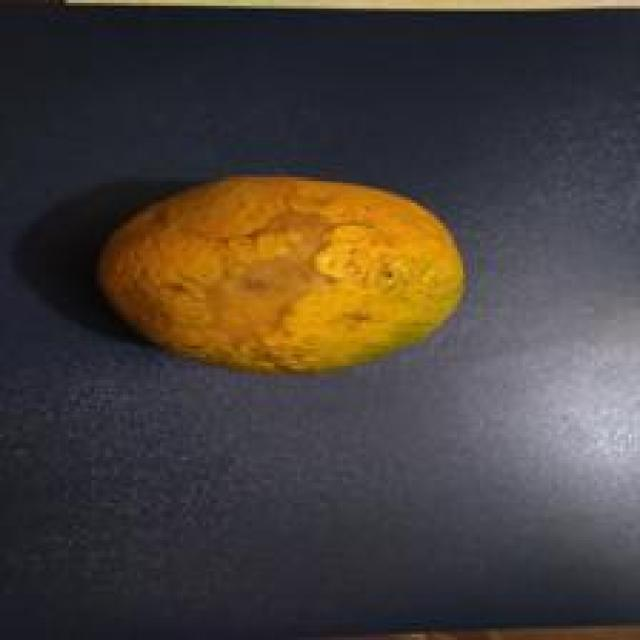overripe: (94, 170, 472, 376)
